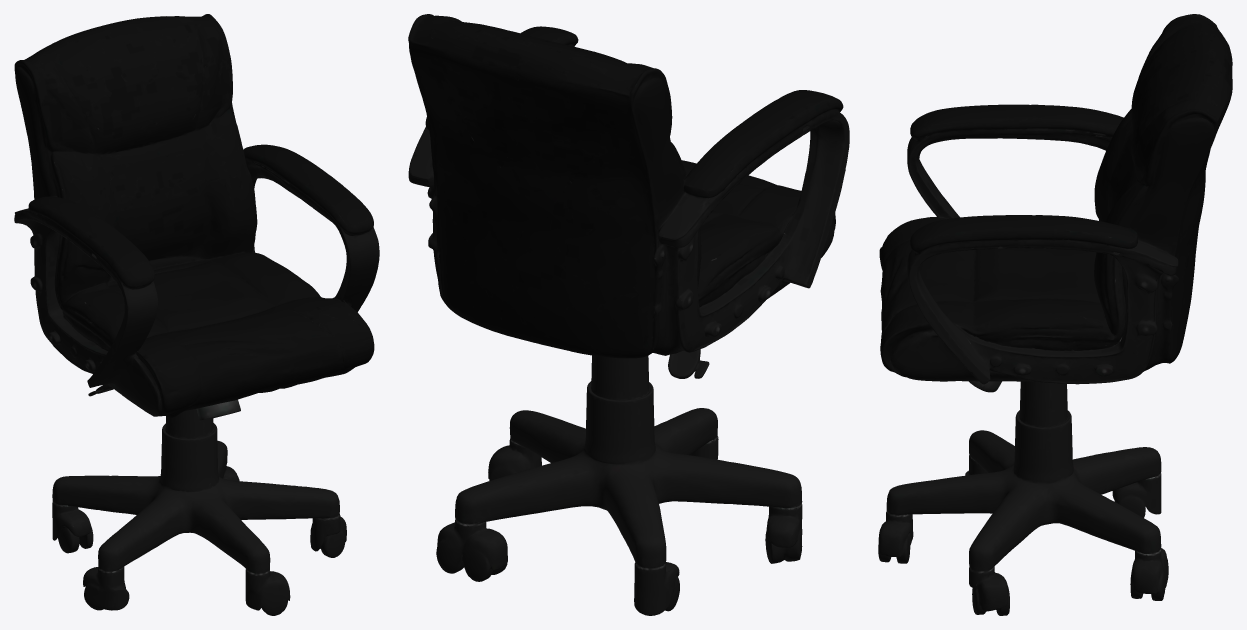
File: B00IFHPVEU.glb
3 renders of one model, left to right at view 1: azimuth 30°, elevation 25°; view 2: azimuth 150°, elevation 25°; view 3: azimuth 270°, elevation 25°, orthographic. The views are drawn at different scales.
Parts seen in each view (by area): view 1: geometry_0; view 2: geometry_0; view 3: geometry_0.
Part boxes in pixels (box(x1,y1,x2,y2)): geometry_0: box(14, 14, 379, 615); geometry_0: box(408, 14, 849, 615); geometry_0: box(878, 14, 1232, 615).
Bounding box in the file's own units: 0.4754 × 0.8382 × 0.5353.
Materials: 1 (1 with a texture image).
